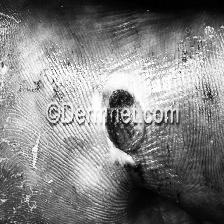Benign Marking or Mole: (101, 88, 150, 154)
